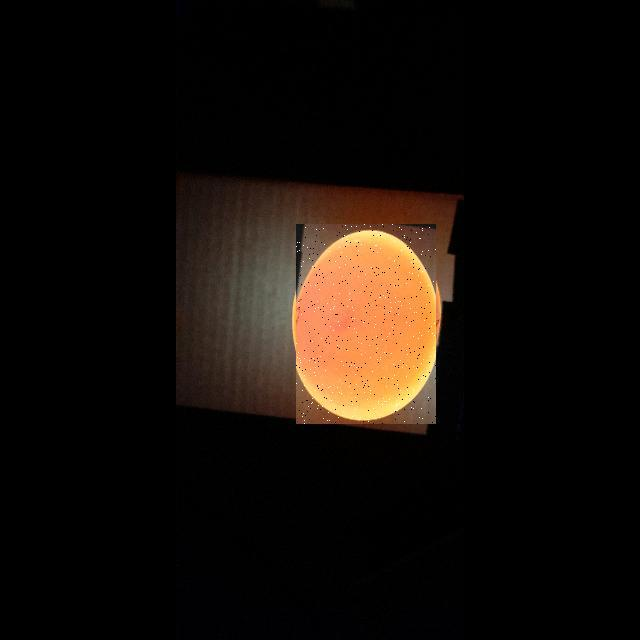Fertile: (296, 224, 436, 424)
